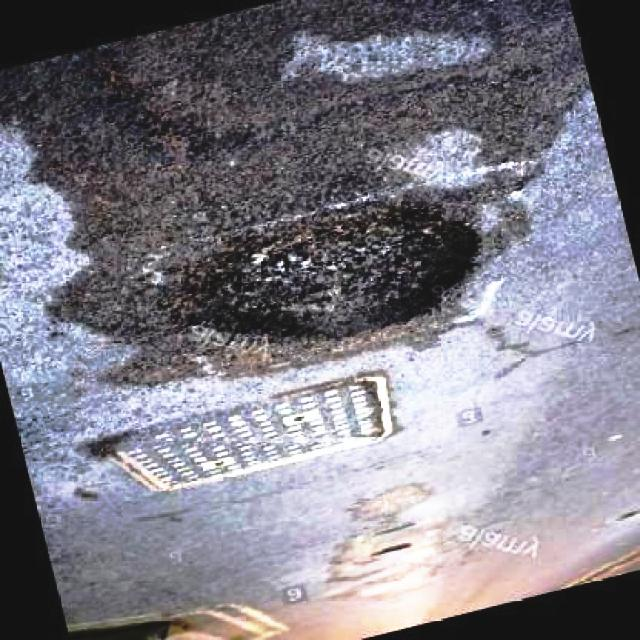pothole: (159, 192, 486, 348)
